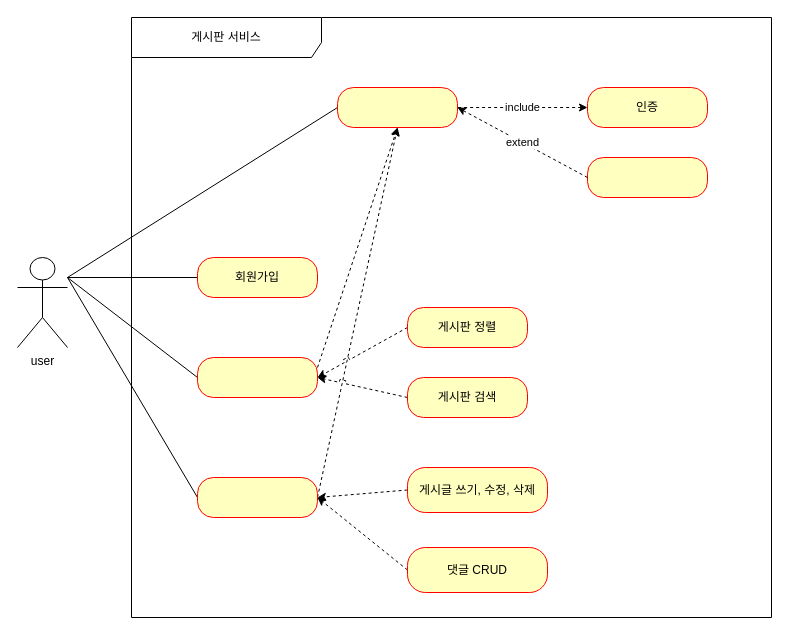
Image size: 789x635. Some labels were removed from this diagram. The shapes that lost their labels are listed below. From the top down, each one's box as (x1, y1, x2, y2) in pixels, then its label:
(336, 86, 458, 128): 회원 로그인
(586, 156, 708, 198): 로그인 실패
(196, 356, 318, 398): 게시판 보기
(196, 476, 318, 518): 게시글 보기
